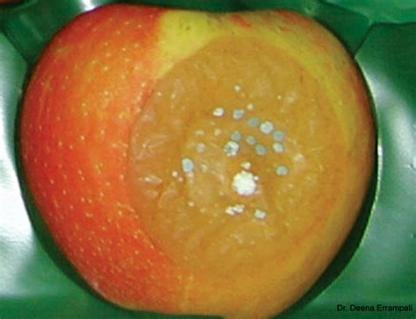defect: (122, 30, 344, 312)
